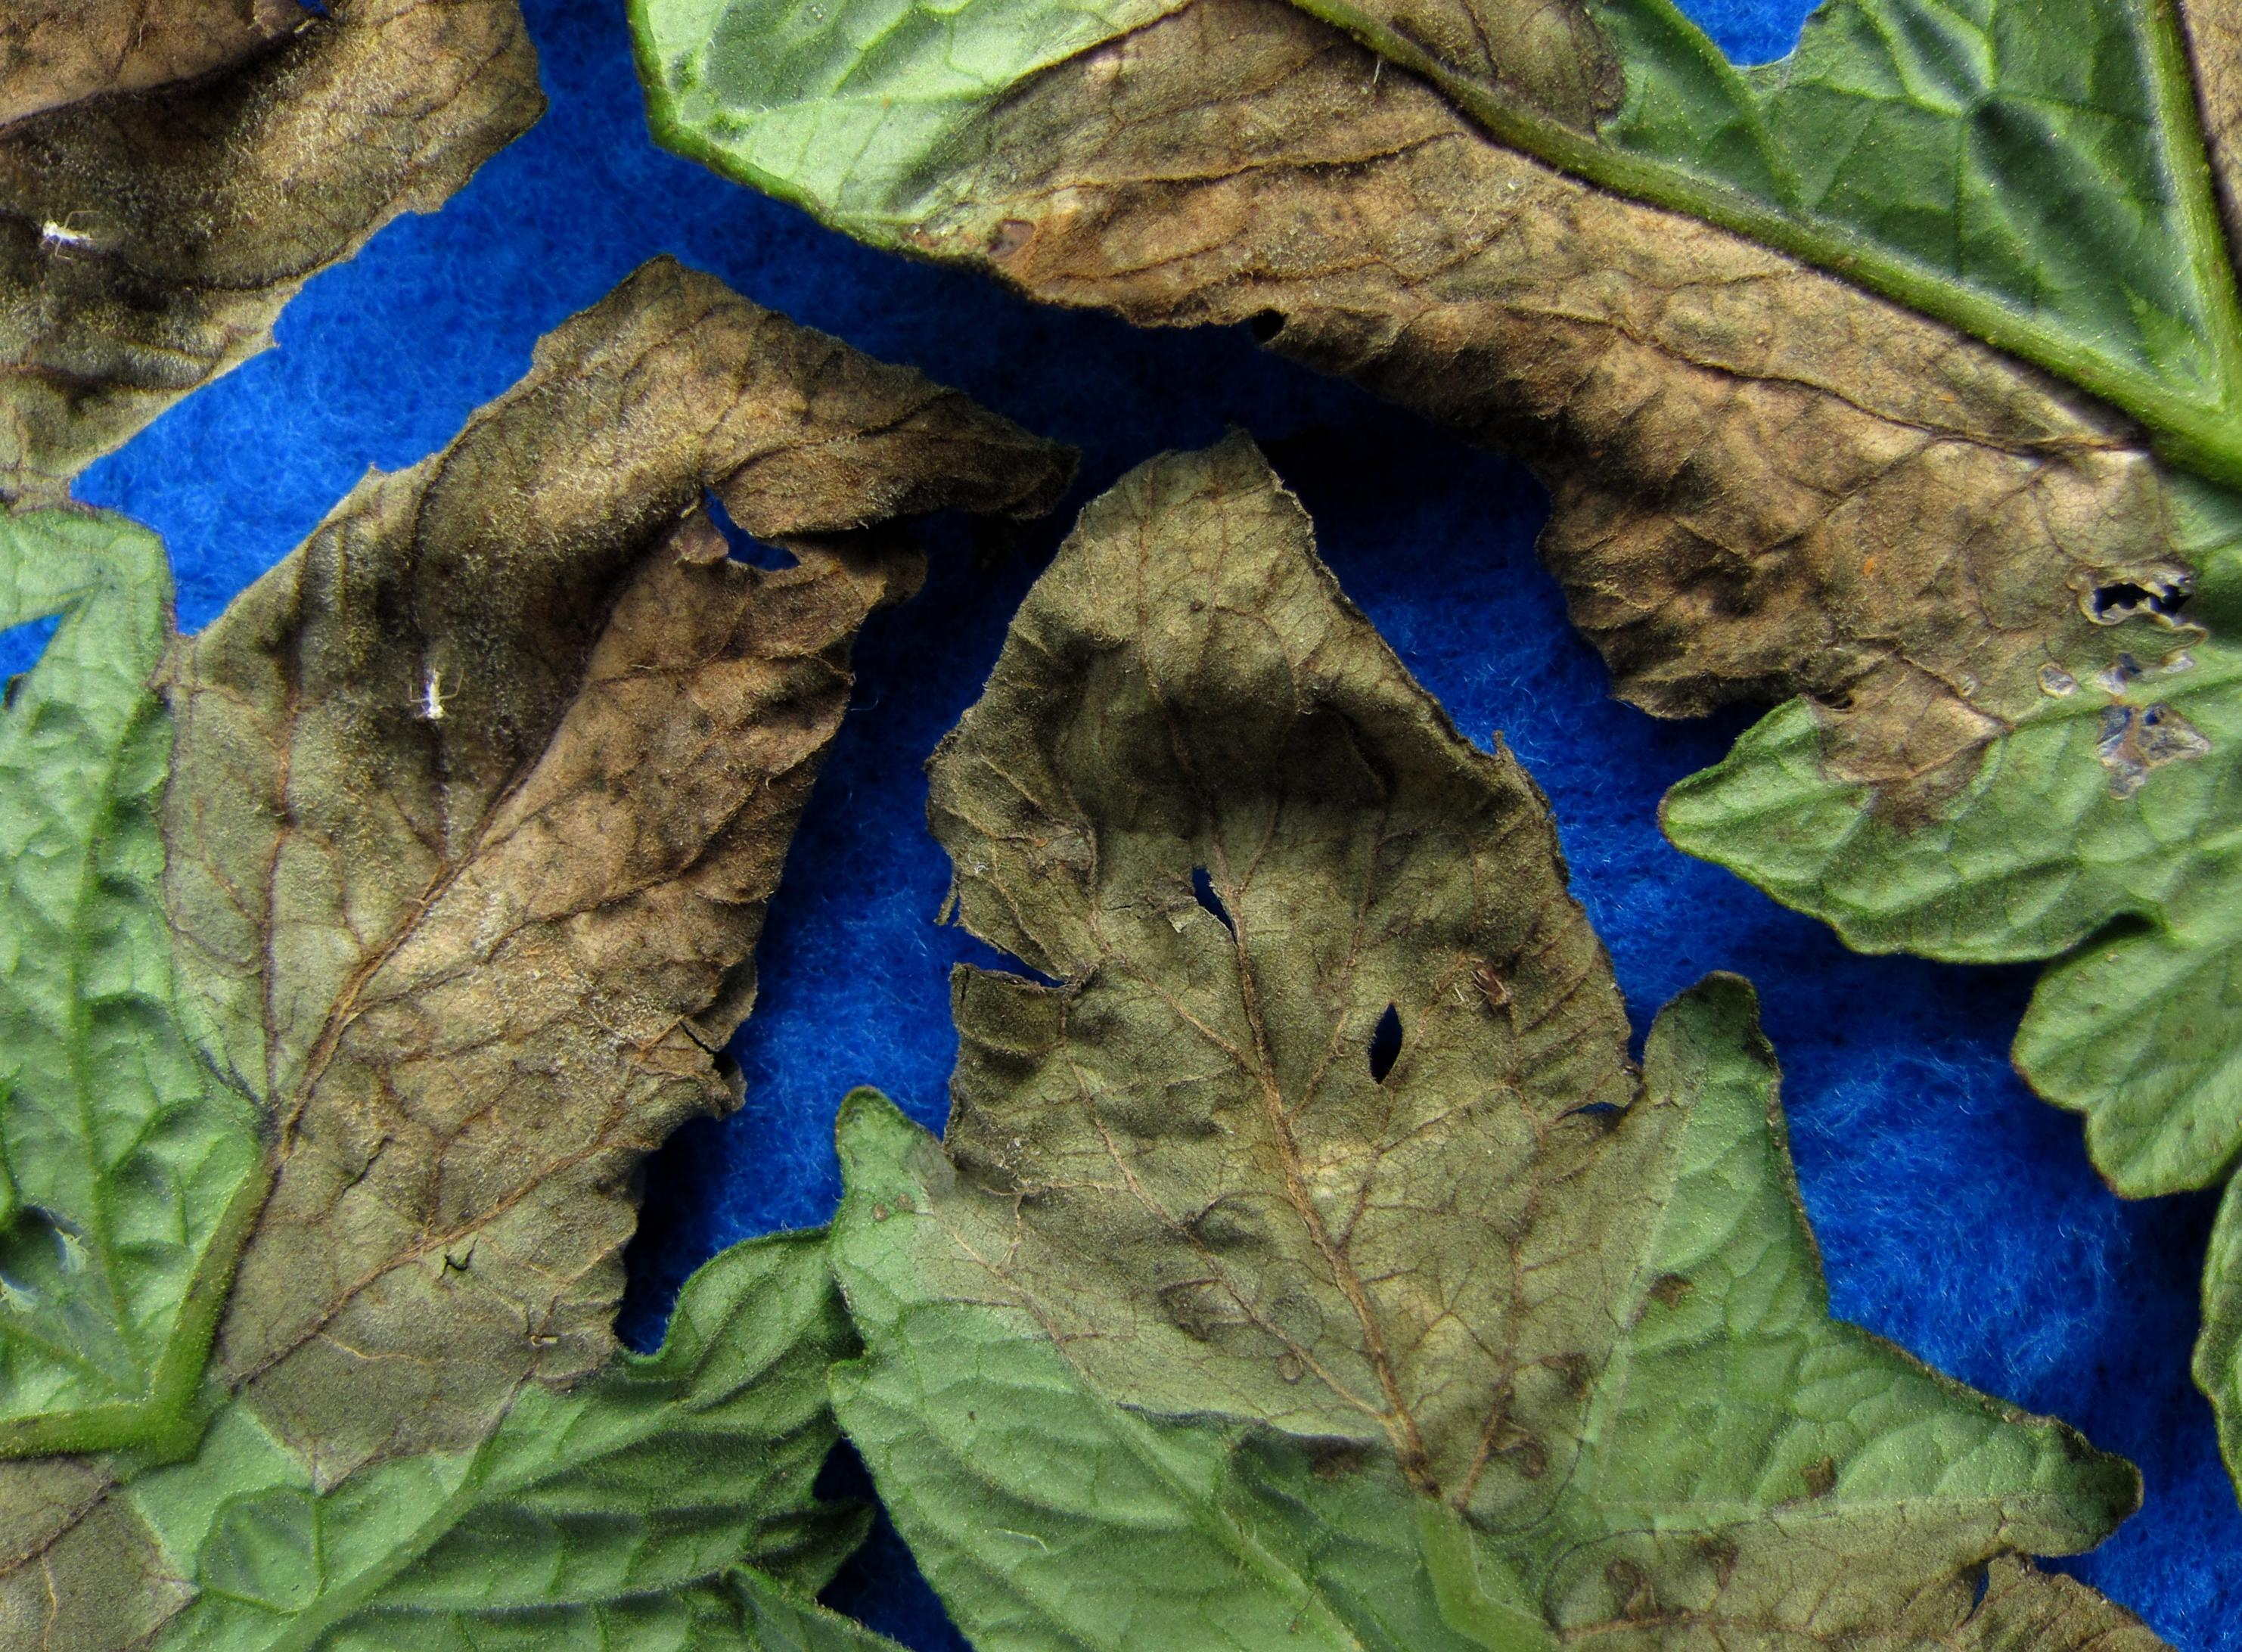Tomato leaf late blight: (0, 106, 1495, 1652), (270, 322, 1984, 1652)
